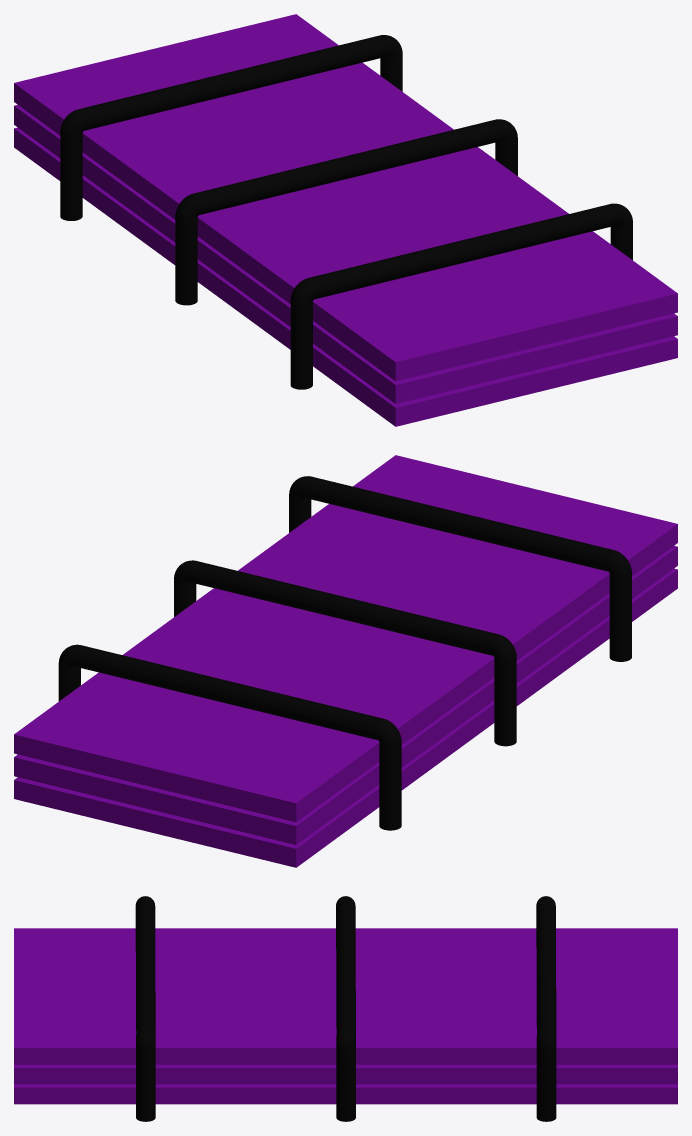
The model's file is BatteryLevel3.fbx.
3 renders of one model, top to bottom at view 1: azimuth 30°, elevation 25°; view 2: azimuth 150°, elevation 25°; view 3: azimuth 270°, elevation 25°, orthographic. The views are drawn at different scales.
Parts seen in each view (by area): view 1: BatteryLevel3; view 2: BatteryLevel3; view 3: BatteryLevel3.
Boxes of the visible parts, x1,y1,x2,y2 form: BatteryLevel3: [14, 14, 677, 426]; BatteryLevel3: [14, 455, 677, 867]; BatteryLevel3: [14, 896, 677, 1121].
Bounding box in the file's own units: 51.46 × 15.07 × 100.
